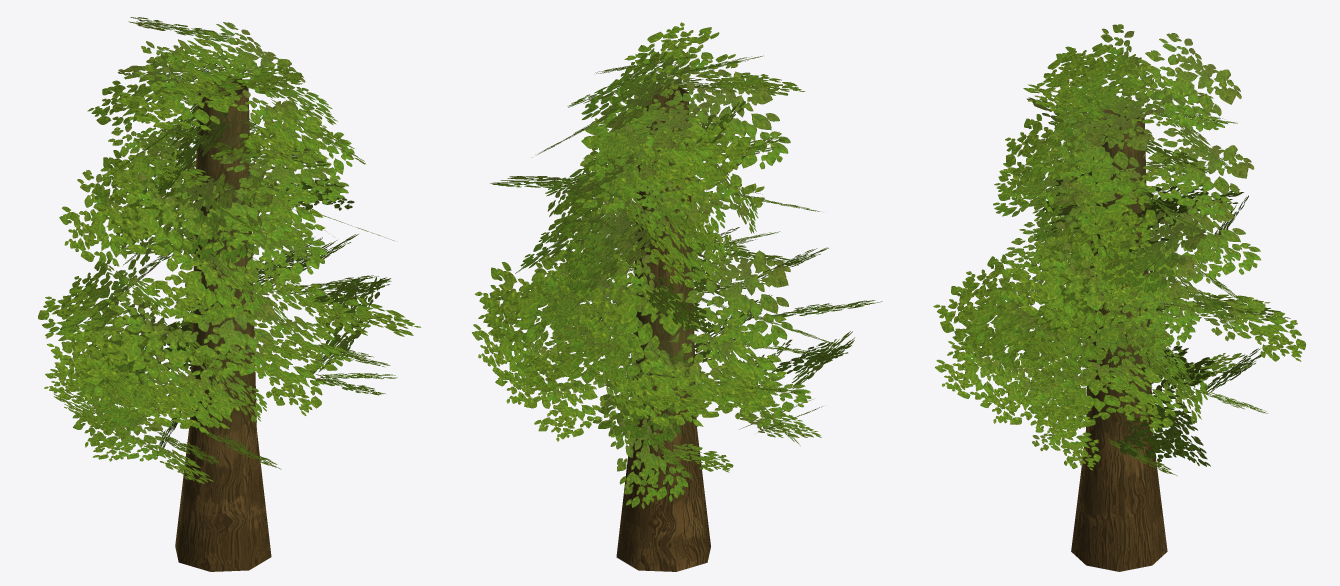
File: Tree_Model.fbx
The picture shows the model from 3 angles, left to right: view 1: azimuth 30°, elevation 25°; view 2: azimuth 150°, elevation 25°; view 3: azimuth 270°, elevation 25°; orthographic projection. The views are drawn at different scales.
Visible parts, largest first — view 1: Leaf, Tre; view 2: Leaf, Tre; view 3: Leaf, Tre.
Boxes of the visible parts, <box> form: Leaf: <box>38,17,420,483</box>; Tre: <box>175,76,271,571</box>; Leaf: <box>472,22,882,509</box>; Tre: <box>616,87,710,571</box>; Leaf: <box>933,24,1305,475</box>; Tre: <box>1071,107,1167,571</box>.
Bounding box in the file's own units: 2.65 × 3.71 × 2.69.
